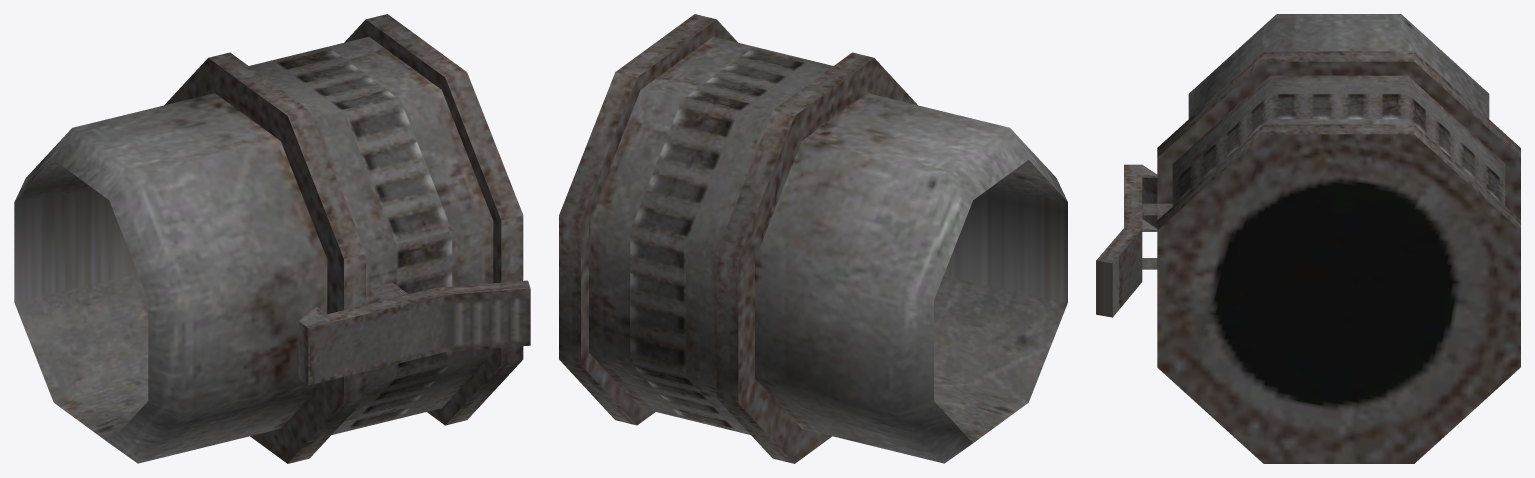
The model's file is p_rus_hose_modular_connect_end_LOD1.obj.
3 views of the same model, side by side, from view 1: azimuth 30°, elevation 25°; view 2: azimuth 150°, elevation 25°; view 3: azimuth 270°, elevation 25° (orthographic). The views are drawn at different scales.
Parts seen in each view (by area): view 1: mtl_p_rus_hose_fitting_end; view 2: mtl_p_rus_hose_fitting_end; view 3: mtl_p_rus_hose_fitting_end.
Boxes of the visible parts, left/top/right/bottom form: mtl_p_rus_hose_fitting_end: left=14, top=14, right=530, bottom=463; mtl_p_rus_hose_fitting_end: left=559, top=14, right=1067, bottom=463; mtl_p_rus_hose_fitting_end: left=1096, top=14, right=1520, bottom=463.
Bounding box in the file's own units: 27.89 × 26.81 × 31.31.
